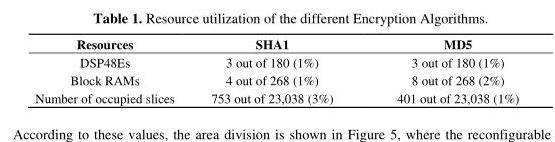table: (34, 34, 518, 105)
table column: (192, 34, 364, 105), (34, 34, 192, 105), (364, 34, 518, 105)
table column header: (34, 34, 518, 52)
table row: (34, 34, 518, 52), (34, 52, 518, 70), (34, 70, 518, 88), (34, 88, 518, 105)
